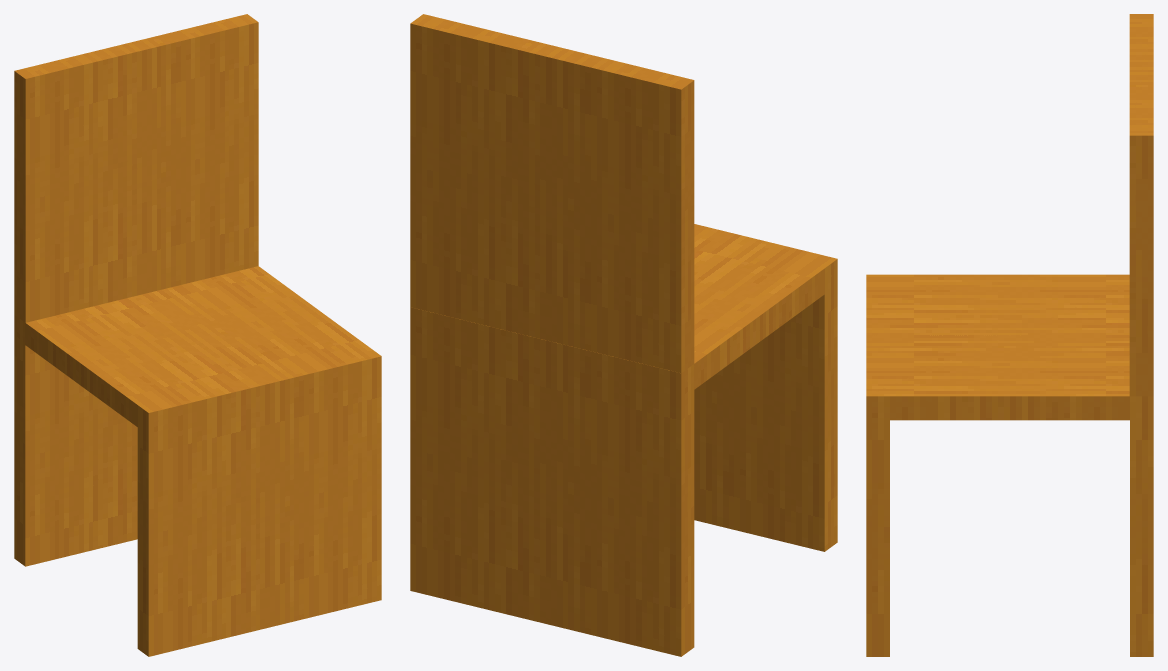
The model's file is HomeChair2.fbx.
3 renders of one model, left to right at view 1: azimuth 30°, elevation 25°; view 2: azimuth 150°, elevation 25°; view 3: azimuth 270°, elevation 25°, orthographic. The views are drawn at different scales.
Visible parts, largest first — view 1: Cube, Cube_2, Cube_1; view 2: Cube, Cube_2, Cube_1; view 3: Cube, Cube_2.
Part boxes in pixels (x1=…): Cube: x1=14, y1=266, x2=381, y2=656; Cube_2: x1=14, y1=14, x2=258, y2=322; Cube_1: x1=25, y1=345, x2=137, y2=566; Cube: x1=410, y1=224, x2=837, y2=656; Cube_2: x1=410, y1=14, x2=694, y2=373; Cube_1: x1=694, y1=294, x2=824, y2=551; Cube: x1=866, y1=274, x2=1153, y2=656; Cube_2: x1=1129, y1=14, x2=1153, y2=396.
Size of the model in its own units: 300 by 600 by 300.
1 material, 1 textured.
